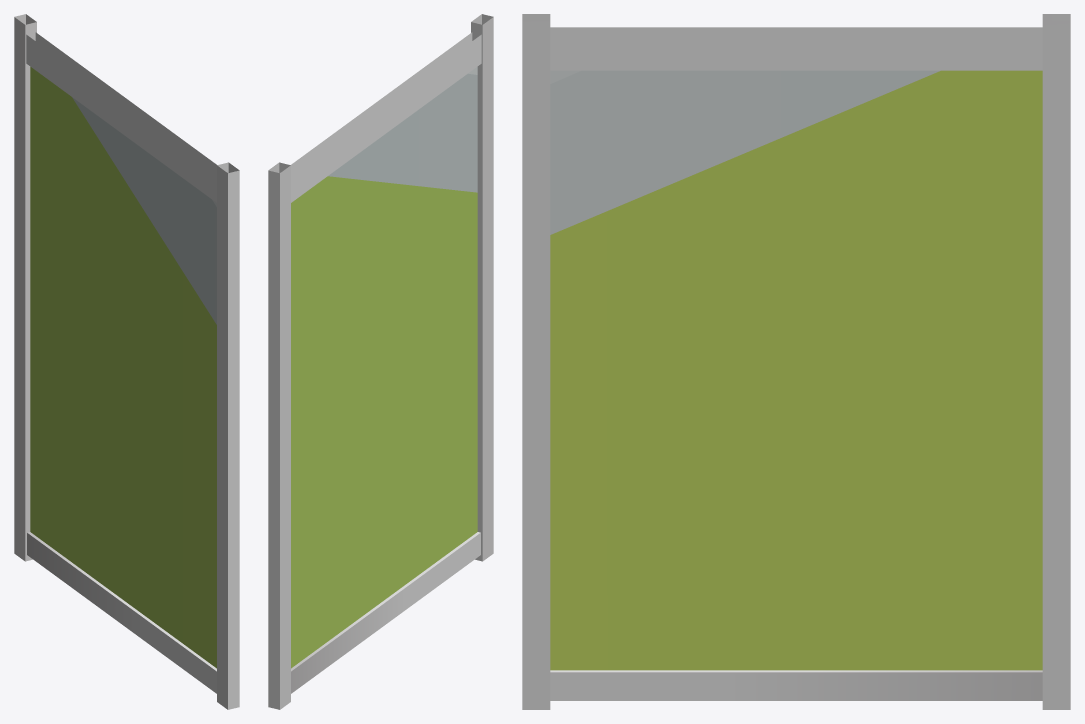
Rendered from CR_CU_Store_002.fbx.
The picture shows the model from 3 angles, left to right: view 1: azimuth 30°, elevation 25°; view 2: azimuth 150°, elevation 25°; view 3: azimuth 270°, elevation 25°; orthographic projection. The views are drawn at different scales.
Visible parts, largest first — view 1: CR_CU_Store_002; view 2: CR_CU_Store_002; view 3: CR_CU_Store_002.
Part boxes in pixels (<box>): CR_CU_Store_002: <box>14,14,239,709</box>; CR_CU_Store_002: <box>268,14,493,709</box>; CR_CU_Store_002: <box>522,14,1070,709</box>.
Bounding box in the file's own units: 4.94 × 215 × 156.
